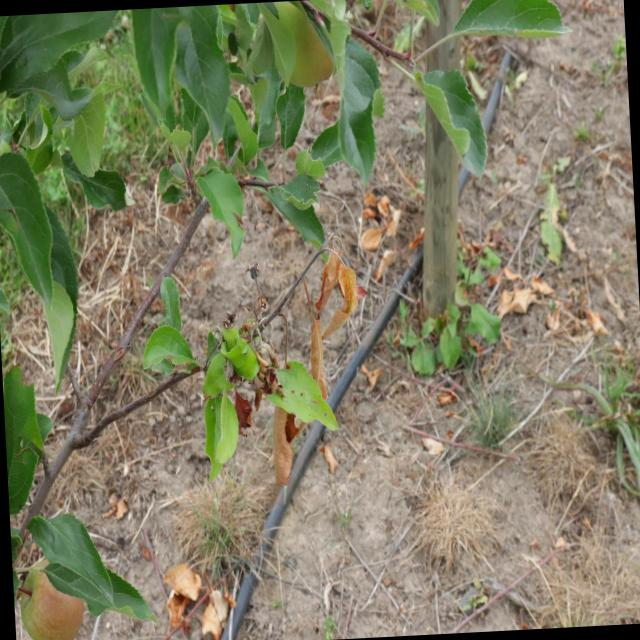-FireBlight-: (240, 336, 312, 480), (304, 237, 364, 338), (303, 286, 341, 412)
